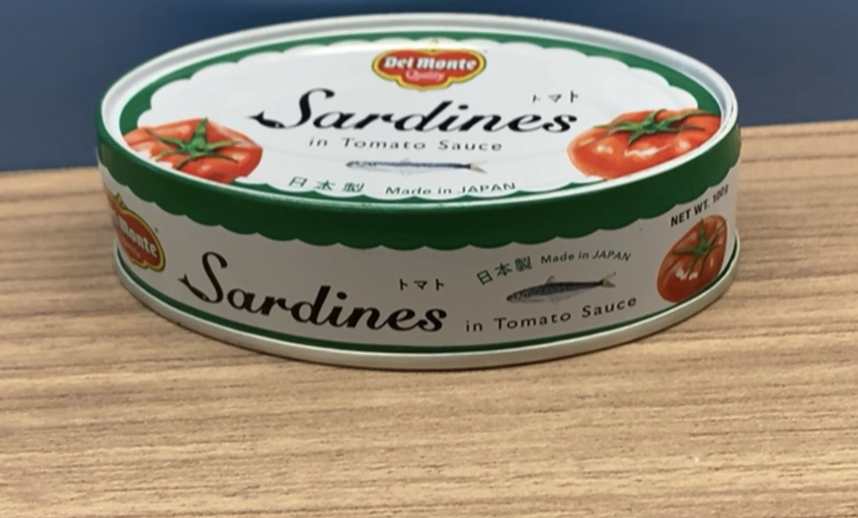sardines_150g: (153, 52, 725, 332)
